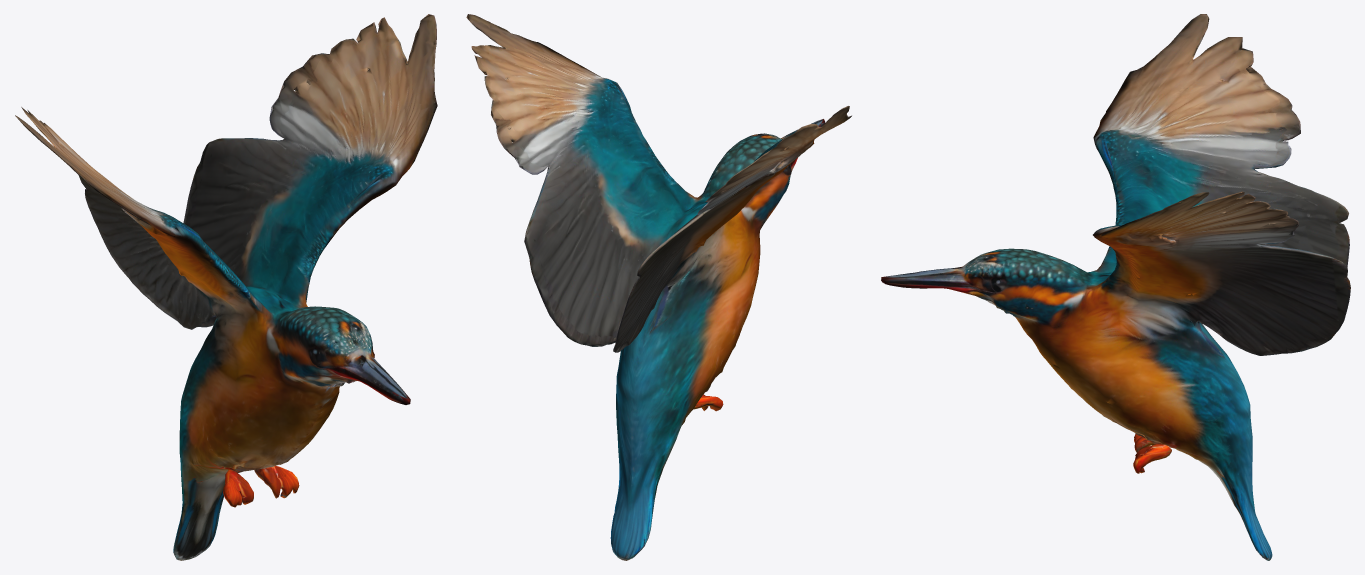
Rendered from bird.glb.
3 renders of one model, left to right at view 1: azimuth 30°, elevation 25°; view 2: azimuth 150°, elevation 25°; view 3: azimuth 270°, elevation 25°, orthographic. The views are drawn at different scales.
Bounding box in the file's own units: 1.6 × 1.91 × 1.78.
Materials: 1 (1 with a texture image).
